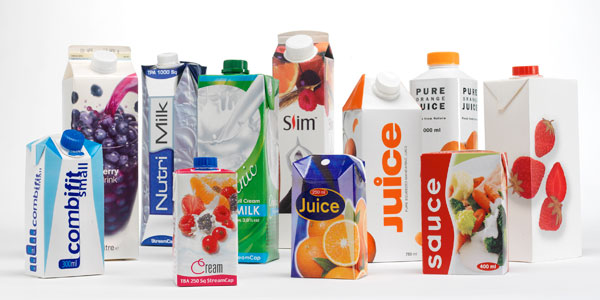carton: (14, 130, 113, 284), (415, 148, 516, 284), (288, 139, 375, 288), (171, 151, 246, 300)
